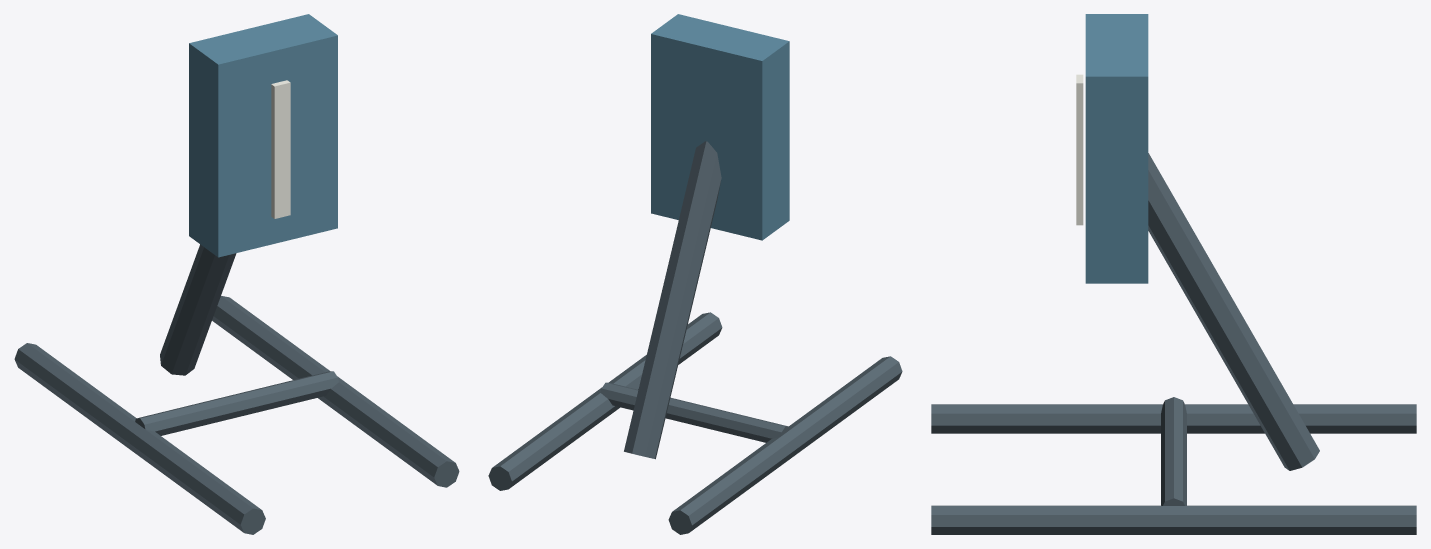
File: american-football-stadium-kit-blocking-sled-f70ebe82__22382.glb
The picture shows the model from 3 angles, left to right: view 1: azimuth 30°, elevation 25°; view 2: azimuth 150°, elevation 25°; view 3: azimuth 270°, elevation 25°; orthographic projection. The views are drawn at different scales.
Parts seen in each view (by area): view 1: blocking-sled; view 2: blocking-sled; view 3: blocking-sled.
Boxes of the visible parts, x1,y1,x2,y2 form: blocking-sled: (14,14,459,534); blocking-sled: (488,14,902,534); blocking-sled: (931,14,1416,534).
Size of the model in its own units: 0.9499 by 1.7 by 1.7.
